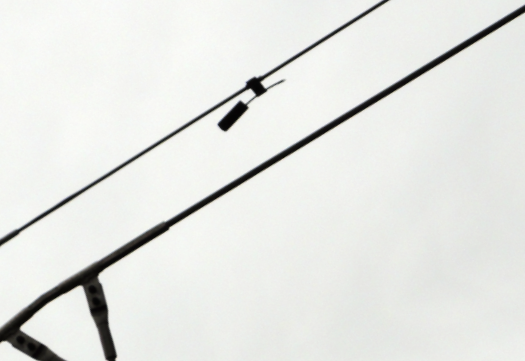damper_defect: (215, 73, 288, 133)
